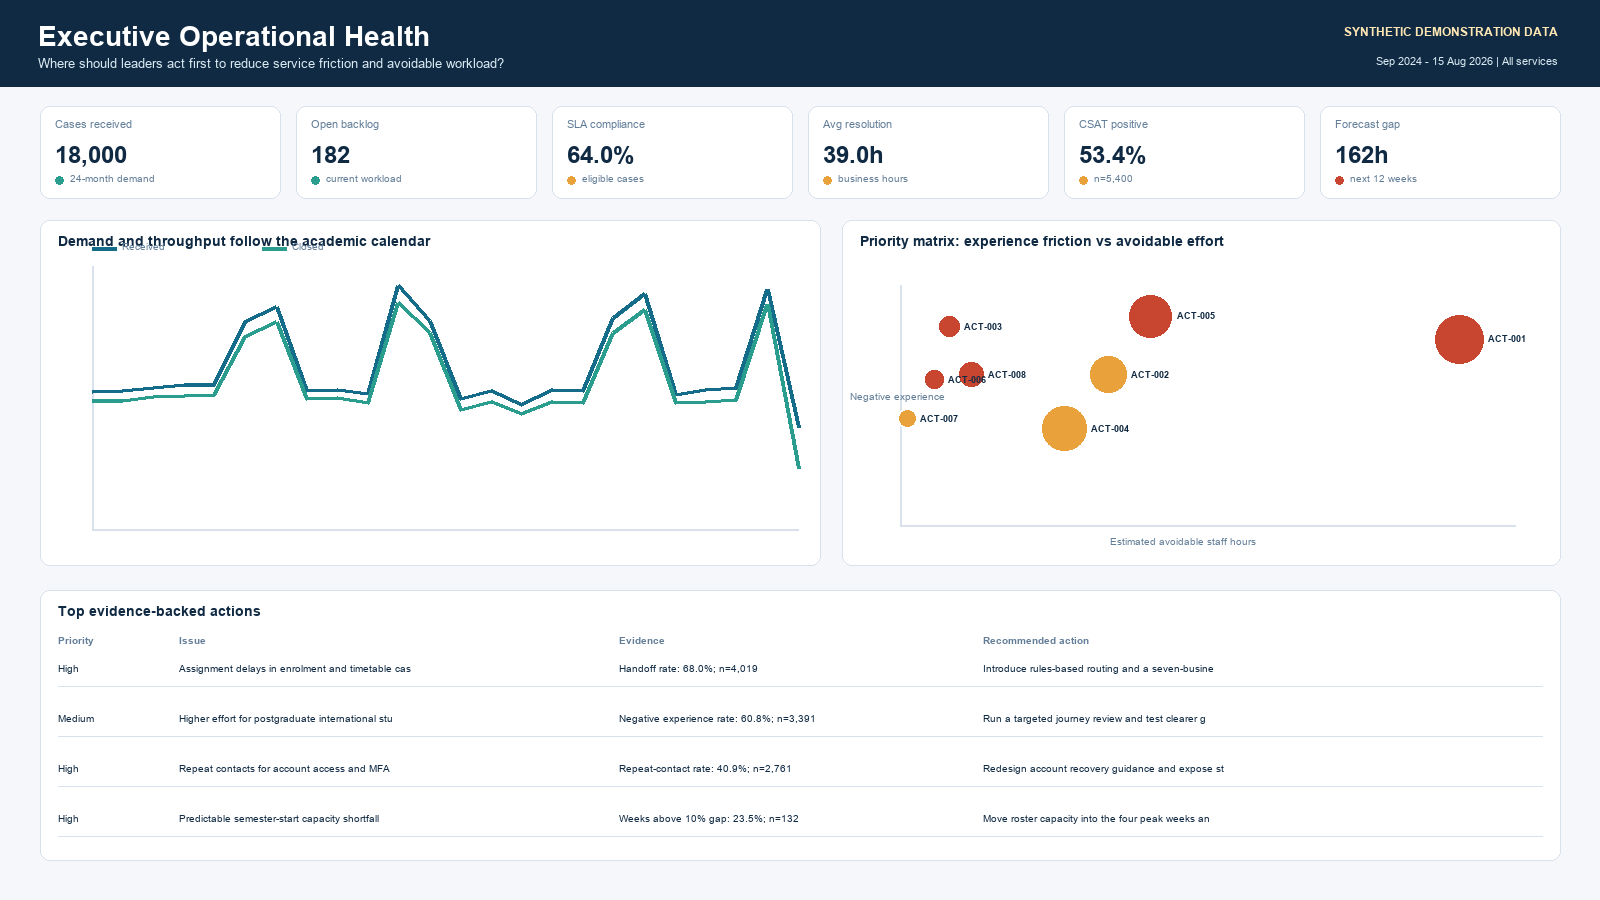

The dashboard page shown, as its layout file describes it:
{"tool":"powerbi","page":{"name":"Executive Operational Health","canvas":[1920,1080],"ordinal":0},"visuals":[{"type":"cardVisual","fields":{"Data":["_Measures.Cases Received","_Measures.Open Backlog As Of","_Measures.SLA Compliance %","_Measures.Median Resolution Business Hours","_Measures.Display CSAT %","_Measures.Forecast Capacity Gap Hours"]},"box":[0,90,1890,135],"z":0},{"type":"lineChart","title":"Cases received vs closed by month","fields":{"Category":["DimDate.year_month"],"Y":["_Measures.Cases Received","_Measures.Cases Closed"]},"box":[0,236.6,1058.9,546.9],"z":1000},{"type":"scatterChart","title":"Where to act first: avoidable hours vs negative experience","fields":{"X":["_Measures.Estimated Avoidable Staff Hours"],"Y":["Sum(FactActionInsight.negative_experience_rate)"],"Series":["FactActionInsight.priority"],"Category":["FactActionInsight.issue"],"Size":["Sum(FactActionInsight.users_affected)"]},"box":[1058.9,236.6,861.1,546.9],"z":2000},{"type":"tableEx","title":"Action register: owner and next review","fields":{"Values":["FactActionInsight.issue","FactActionInsight.evidence_1_name","FactActionInsight.evidence_1_value","DimTeam.team_name","FactActionInsight.recommended_action","FactActionInsight.next_review_date"]},"box":[0,795.2,1920,283.2],"z":3000},{"type":"textbox","box":[15,10,1150,70],"z":3001},{"type":"slicer","fields":{"Values":["DimService.service_name"]},"box":[1210,5,340,80],"z":3002},{"type":"slicer","fields":{"Values":["DimCampus.campus_name"]},"box":[1565,5,340,80],"z":3003}]}

Visuals, with their boxes in screenshot pixels (x1, y1, x2, y2), scaled from the page's 1920x1080 canvas onto the 1600x900 screenshot:
cardVisual - _Measures.Cases Received x _Measures.Open Backlog As Of: 0, 75, 1575, 188
"Cases received vs closed by month" lineChart: 0, 197, 882, 653
"Where to act first: avoidable hours vs negative experience" scatterChart: 882, 197, 1599, 653
"Action register: owner and next review" tableEx: 0, 663, 1599, 899
textbox: 12, 8, 971, 67
slicer - DimService.service_name: 1008, 4, 1292, 71
slicer - DimCampus.campus_name: 1304, 4, 1588, 71
